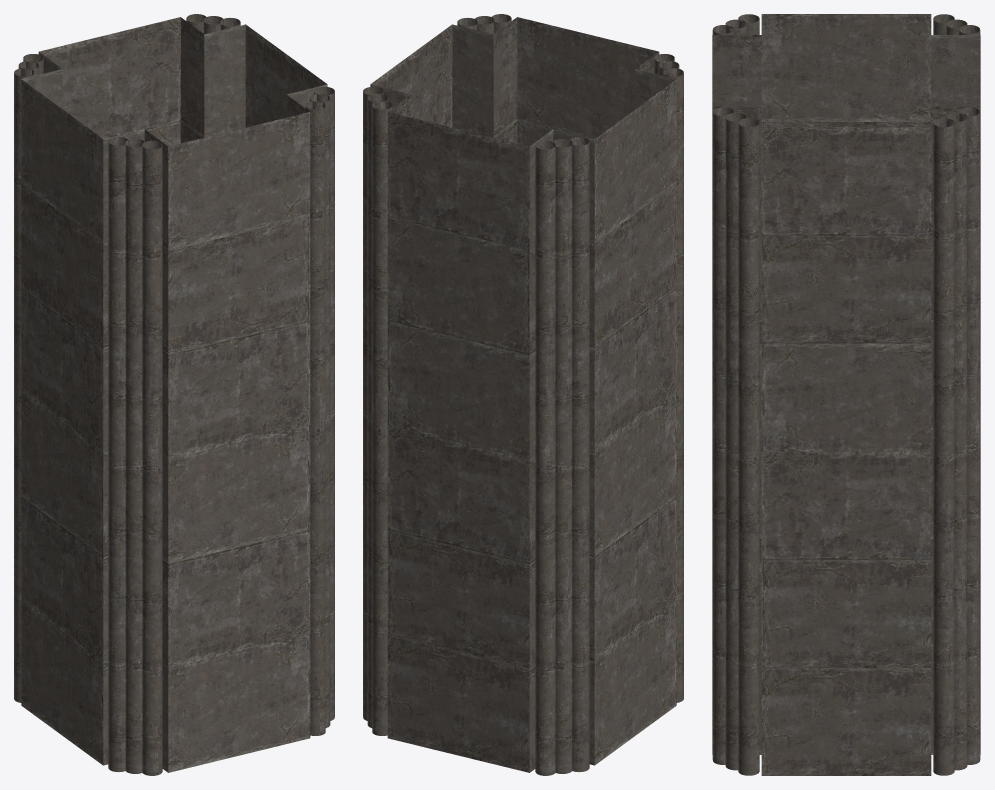
Rendered from ColumnSquare2.fbx.
3 renders of one model, left to right at view 1: azimuth 30°, elevation 25°; view 2: azimuth 150°, elevation 25°; view 3: azimuth 270°, elevation 25°, orthographic. The views are drawn at different scales.
Parts seen in each view (by area): view 1: Trim_Column_3x3x8_Square; view 2: Trim_Column_3x3x8_Square; view 3: Trim_Column_3x3x8_Square.
Boxes of the visible parts, x1,y1,x2,y2 form: Trim_Column_3x3x8_Square: [14, 14, 334, 775]; Trim_Column_3x3x8_Square: [363, 14, 683, 775]; Trim_Column_3x3x8_Square: [712, 14, 980, 775].
Size of the model in its own units: 300 by 800 by 300.
